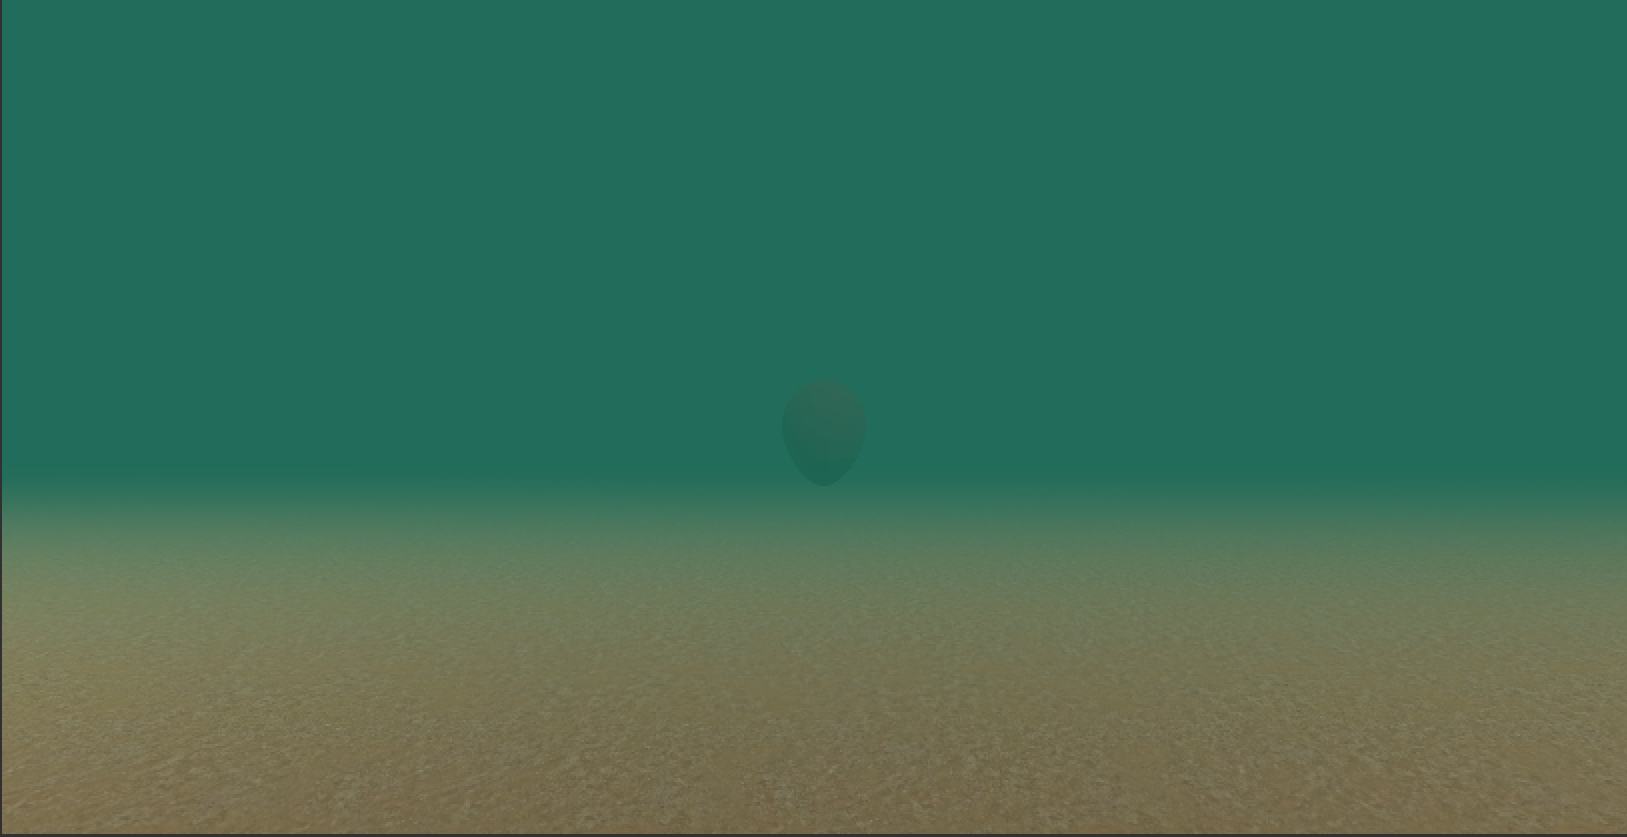red buoy: (781, 377, 871, 492)
